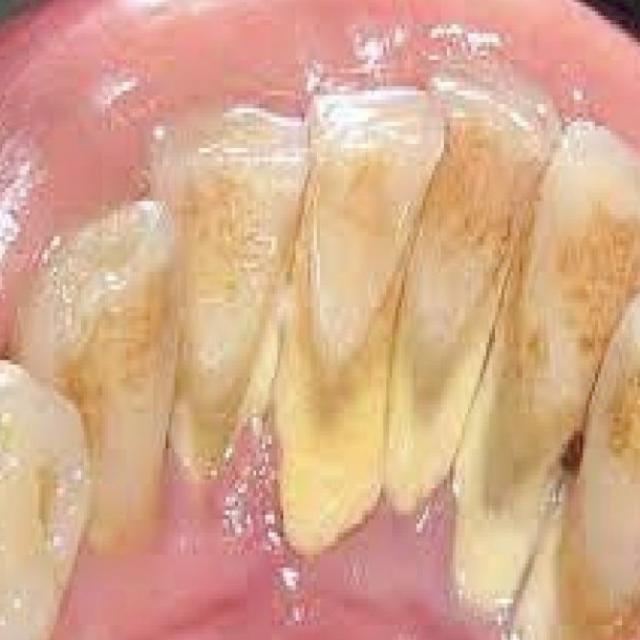CALCULUS: (263, 280, 410, 577), (374, 316, 498, 545), (448, 430, 577, 622), (166, 304, 274, 510), (508, 536, 640, 640)
